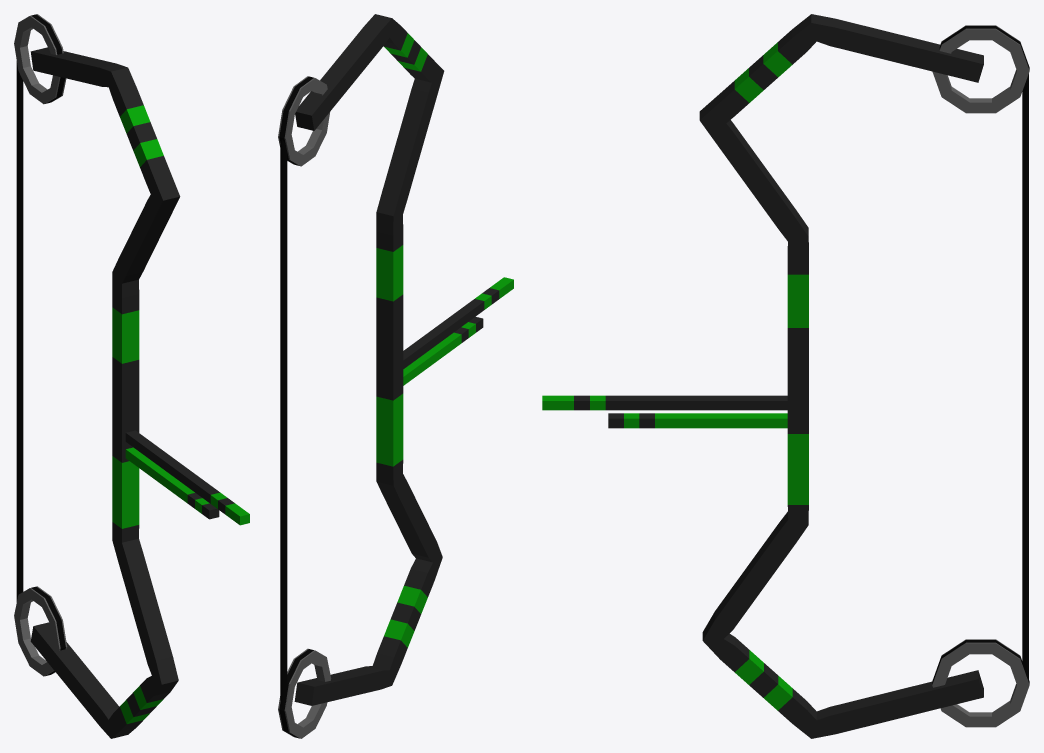
The model's file is ArcherBow.fbx.
The picture shows the model from 3 angles, left to right: view 1: azimuth 30°, elevation 25°; view 2: azimuth 150°, elevation 25°; view 3: azimuth 270°, elevation 25°; orthographic projection. The views are drawn at different scales.
Parts seen in each view (by area): view 1: Cube.016; view 2: Cube.016; view 3: Cube.016.
Part boxes in pixels (x1=…): Cube.016: x1=14, y1=14, x2=249, y2=738; Cube.016: x1=278, y1=14, x2=513, y2=738; Cube.016: x1=542, y1=14, x2=1029, y2=738.
Bounding box in the file's own units: 22.81 × 850 × 524.
